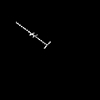treble_crochet: (17, 23, 45, 47)
